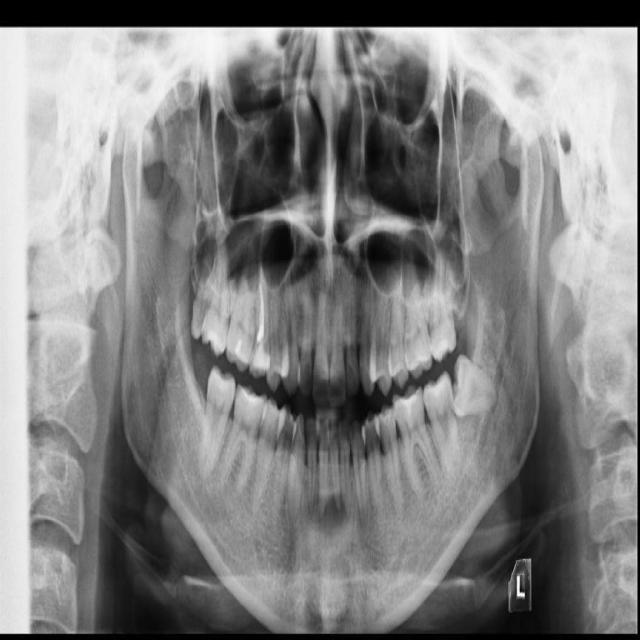3M ESPE Implant: (186, 238, 224, 340)
52: (210, 322, 263, 375), (247, 346, 273, 380)
73: (252, 262, 270, 351), (618, 606, 622, 614)
BioHorizons Implant: (424, 250, 458, 363)
Biomet 3i Implant: (447, 354, 503, 421)
Blue Sky Bio Implant: (418, 369, 467, 482)
Caries: (198, 224, 242, 358)
Implant: (197, 364, 238, 480)
